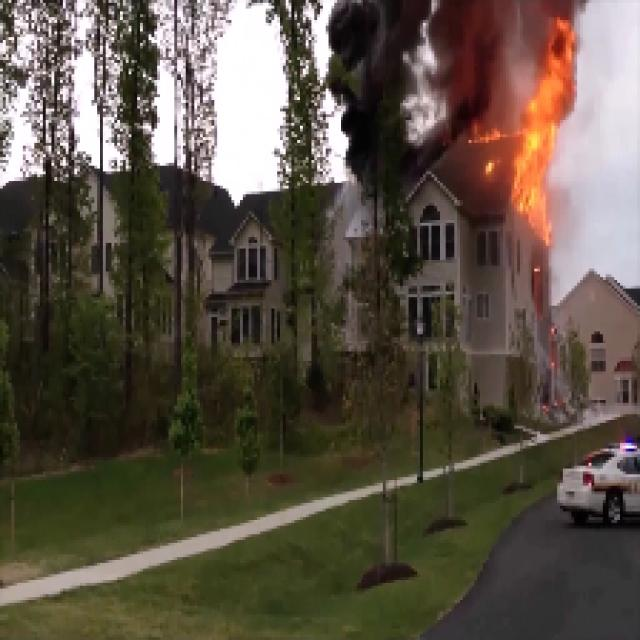fire: (498, 22, 575, 237)
smoke: (334, 4, 476, 97)
